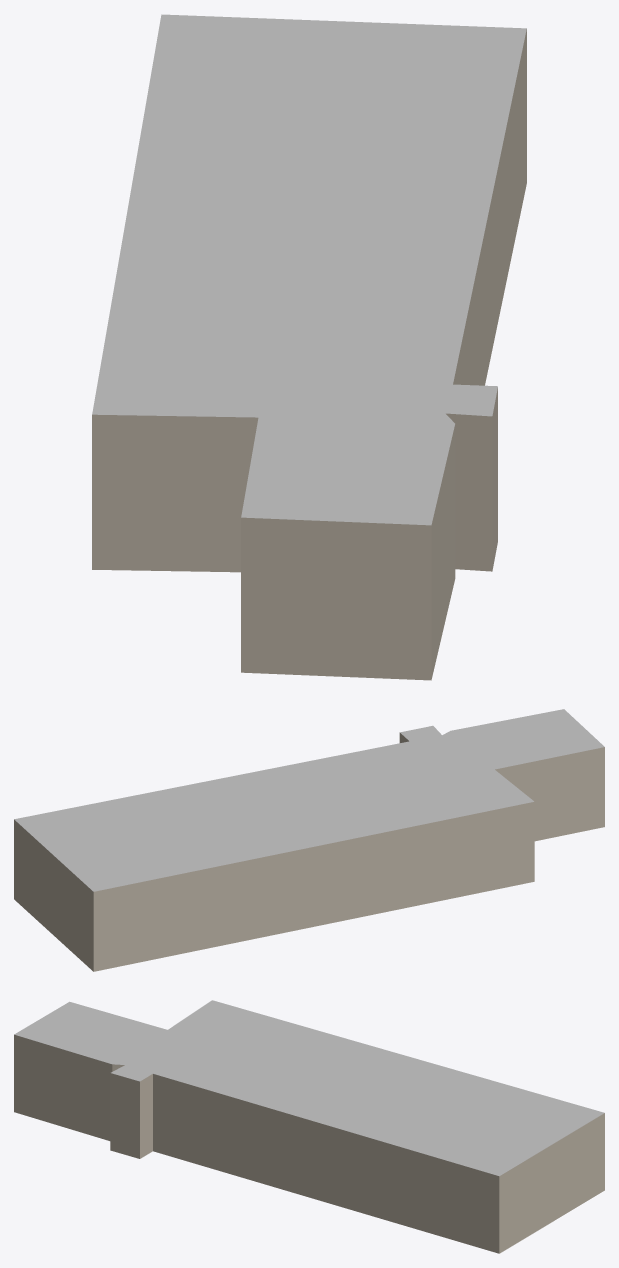
The picture shows the model from 3 angles, top to bottom: view 1: azimuth 30°, elevation 25°; view 2: azimuth 150°, elevation 25°; view 3: azimuth 270°, elevation 25°; orthographic projection. The views are drawn at different scales.
Parts seen in each view (by area): view 1: tuile; view 2: tuile; view 3: tuile.
Part boxes in pixels (x1,y1,x2,y2): tuile: (92,14,526,680); tuile: (14,709,604,971); tuile: (14,1000,604,1253).
Bounding box in the file's own units: 22.5 × 4.62 × 31.9.
